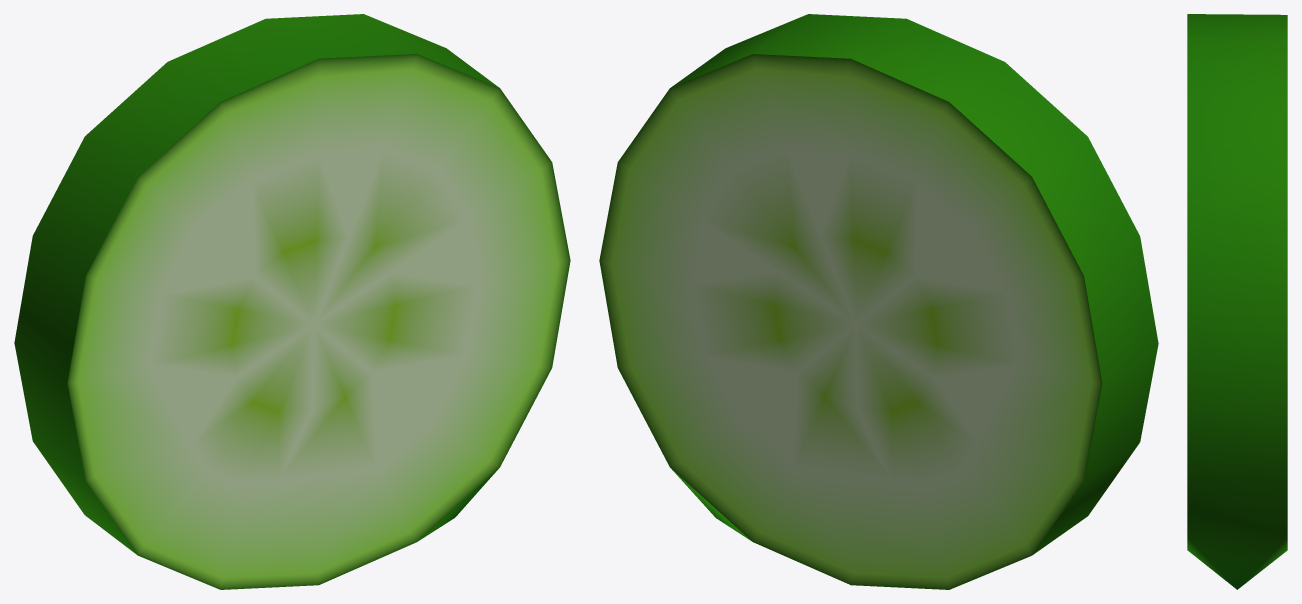
Rendered from Cucumber_Slice_11.fbx.
3 views of the same model, side by side, from view 1: azimuth 30°, elevation 25°; view 2: azimuth 150°, elevation 25°; view 3: azimuth 270°, elevation 25° (orthographic). The views are drawn at different scales.
Visible parts, largest first — view 1: Cucumber_Slice_11; view 2: Cucumber_Slice_11; view 3: Cucumber_Slice_11.
Part boxes in pixels (<box>): Cucumber_Slice_11: <box>14,14,570,589</box>; Cucumber_Slice_11: <box>599,14,1158,589</box>; Cucumber_Slice_11: <box>1187,14,1287,589</box>.
Size of the model in its own units: 4.6 by 4.59 by 0.8621.
